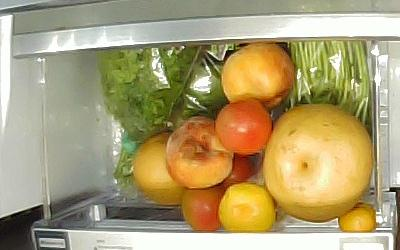peach: (221, 42, 296, 111), (166, 116, 234, 189)
pear: (262, 103, 374, 222), (132, 130, 186, 205)
tangerine: (217, 182, 276, 233), (338, 203, 376, 233)
tomato: (215, 97, 272, 155), (180, 186, 223, 233), (220, 153, 256, 188)
